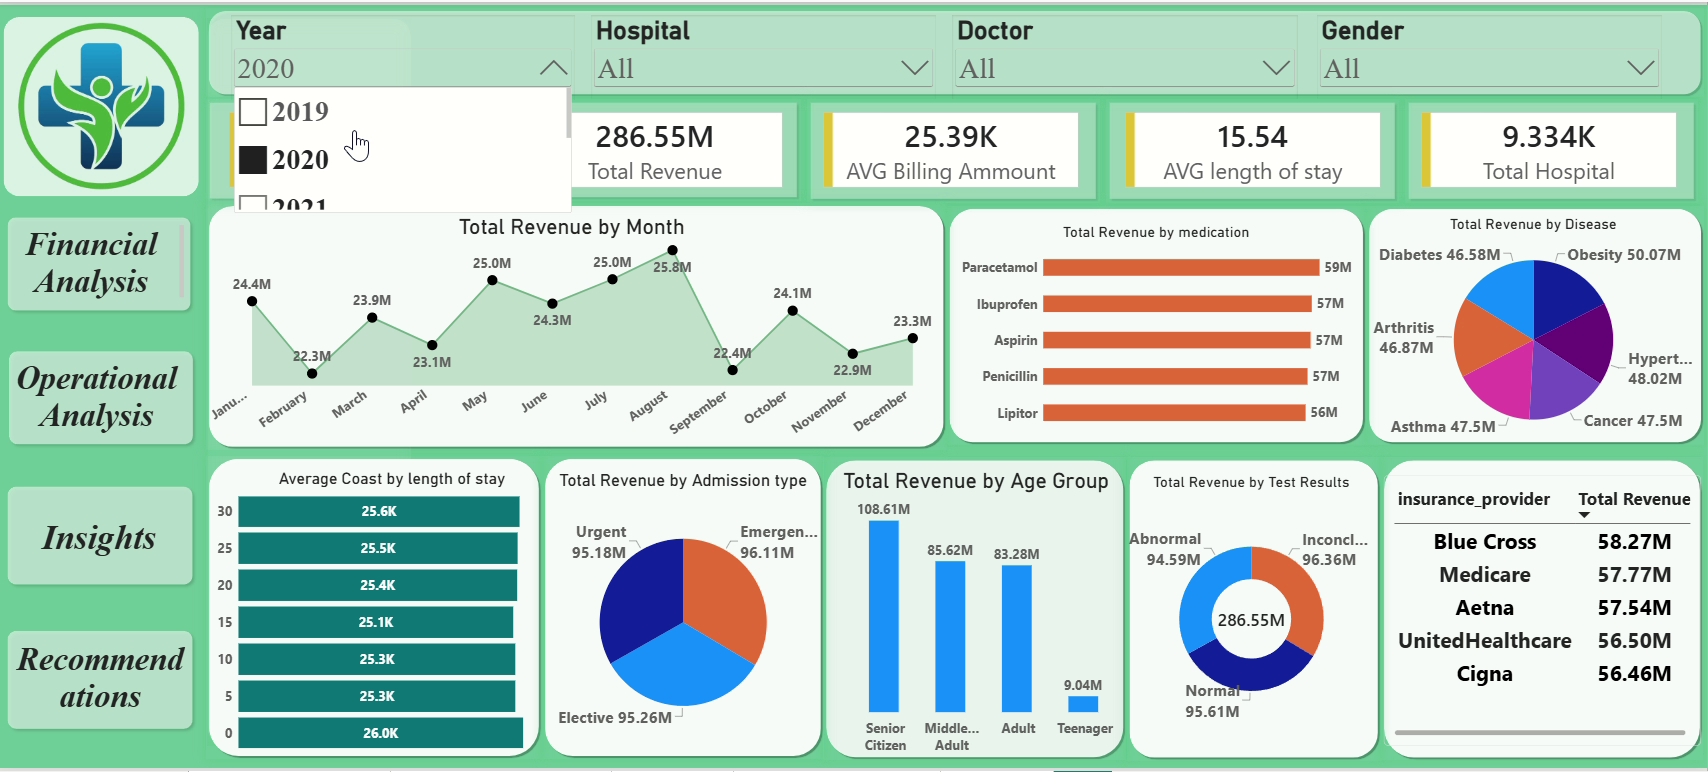

Layout of this report page (visuals, bound fields, positions):
{"tool":"powerbi","page":{"name":"Financial Analysis","canvas":[2800,1250],"ordinal":0},"visuals":[{"type":"shape","box":[341.2,21.9,333.9,1191.9],"z":0},{"type":"shape","box":[1351.5,740,497,496.8],"z":1000},{"type":"shape","box":[2264.6,740,527.7,497],"z":2000},{"type":"shape","box":[2302.3,153.3,480.1,170.6],"z":3000},{"type":"shape","box":[2240,329.1,554,392.4],"z":4000},{"type":"shape","box":[1552.6,329.1,687.3,392.4],"z":5000},{"type":"shape","box":[338.8,324.2,1213.8,404.6],"z":6000},{"type":"lineChart","fields":{"Category":["Date.Date.Variation.Date Hierarchy.Month"],"Y":["public healthcare_dataset.Total Revenue"]},"box":[324.2,329.1,1228.4,409.5],"z":7000},{"type":"shape","box":[339.9,153.6,480,169.9],"z":8000},{"type":"shape","box":[338.8,4.9,2454.5,146.2],"z":9000},{"type":"shape","box":[6.5,19.6,320.3,294.1],"z":10000},{"type":"shape","box":[5,337.9,318,171],"z":11000},{"type":"textbox","box":[8.4,360.2,296,120.1],"z":12000},{"type":"shape","box":[7.3,558.2,319.3,170.6],"z":13000},{"type":"textbox","box":[0,580.1,319.3,141.4],"z":14000},{"type":"image","box":[6.5,29.4,320.3,294.1],"z":15000},{"type":"slicer","fields":{"Values":["Date.Date.Variation.Date Hierarchy.Year"]},"box":[380.2,17.1,563,138.9],"z":16000},{"type":"slicer","fields":{"Values":["public healthcare_dataset.hospital"]},"box":[970.7,16.3,565.4,137.3],"z":17000},{"type":"slicer","fields":{"Values":["public healthcare_dataset.doctor"]},"box":[1562.2,16.3,565.4,137.3],"z":18000},{"type":"slicer","fields":{"Values":["public healthcare_dataset.gender"]},"box":[2160.3,16.3,565.4,137.3],"z":19000},{"type":"shape","box":[1324.7,153.3,480.1,170.6],"z":20000},{"type":"shape","box":[1813.5,153.3,480.1,170.6],"z":21000},{"type":"shape","box":[833,153.3,480.1,167.7],"z":22000},{"type":"cardVisual","fields":{"Data":["public healthcare_dataset.Total Patient"]},"box":[378.9,176.4,419,124],"z":23000},{"type":"cardVisual","fields":{"Data":["public healthcare_dataset.Total Revenue"]},"box":[864.8,176.4,419,124],"z":24000},{"type":"cardVisual","fields":{"Data":["public healthcare_dataset.Average Billing Ammount"]},"box":[1350.7,176.4,419,124],"z":25000},{"type":"cardVisual","fields":{"Data":["Avg(public healthcare_dataset.Average length of stay)"]},"box":[1845.3,176.4,419,124],"z":26000},{"type":"cardVisual","fields":{"Data":["Count(public healthcare_dataset.hospital)"]},"box":[2331.2,176.4,419,124],"z":27000},{"type":"barChart","fields":{"Category":["public healthcare_dataset.medication"],"Y":["public healthcare_dataset.Total Revenue"]},"box":[1560,343.7,672.7,380.2],"z":28000},{"type":"pieChart","title":"Total Revenue by Disease","fields":{"Category":["public healthcare_dataset.medical_condition"],"Y":["public healthcare_dataset.Total Revanue"]},"box":[2235.1,331.5,558.2,409.5],"z":29000},{"type":"shape","box":[338.8,738.5,550.9,497.2],"z":30000},{"type":"barChart","title":"Average Coast by length of stay","fields":{"Y":["Avg(public healthcare_dataset.billing_amount)"],"Category":["public healthcare_dataset.Average length of stay (Group)"]},"box":[340.7,745.5,605.9,502.6],"z":31000},{"type":"tableEx","title":"Revanue by Insurance provider","fields":{"Values":["public healthcare_dataset.insurance_provider","public healthcare_dataset.Total Revanue"]},"box":[2270.2,770.7,519.4,444],"z":32000},{"type":"shape","box":[889.7,738.5,462,497.2],"z":33000},{"type":"columnChart","fields":{"Category":["public healthcare_dataset.Age Group"],"Y":["public healthcare_dataset.Total Revenue"]},"box":[1334.7,745.5,530.5,499.8],"z":34000},{"type":"pieChart","title":"Total Revenue by Admission type","fields":{"Category":["public healthcare_dataset.admission_type"],"Y":["public healthcare_dataset.Total Revenue"]},"box":[890.6,748.8,462.7,497.4],"z":35000},{"type":"shape","box":[1847.6,741,416.8,497.2],"z":36000},{"type":"donutChart","title":"Total Revenue by Test Results","fields":{"Category":["public healthcare_dataset.test_results"],"Y":["public healthcare_dataset.Total Revenue"]},"box":[1842.9,753.9,418.8,480.3],"z":37000},{"type":"shape","box":[5.6,779.1,321.1,178.7],"z":38000},{"type":"shape","box":[5,1016,321.1,178.7],"z":39000},{"type":"textbox","box":[8,839.7,312.9,72.2],"z":40000},{"type":"textbox","box":[26.7,1040.3,278.1,155.1],"z":41000},{"type":"actionButton","box":[14,569.6,312,153.5],"z":42000},{"type":"actionButton","box":[11.2,793,312.7,153.6],"z":43000},{"type":"actionButton","box":[11.2,1030.4,312.7,153.6],"z":44000}]}

Visuals, with their boxes in screenshot pixels (x1, y1, x2, y2), scaled from the page's 2800x1250 canvas onto the 1708x772 screenshot:
shape: <box>208,14,412,750</box>
shape: <box>824,457,1128,764</box>
shape: <box>1381,457,1703,764</box>
shape: <box>1404,95,1697,200</box>
shape: <box>1366,203,1704,446</box>
shape: <box>947,203,1366,446</box>
shape: <box>207,200,947,450</box>
lineChart - Date.Date.Variation.Date Hierarchy.Month x public healthcare_dataset.Total Revenue: <box>198,203,947,456</box>
shape: <box>207,95,500,200</box>
shape: <box>207,3,1704,93</box>
shape: <box>4,12,199,194</box>
shape: <box>3,209,197,314</box>
textbox: <box>5,222,186,297</box>
shape: <box>4,345,199,450</box>
textbox: <box>0,358,195,446</box>
image: <box>4,18,199,200</box>
slicer - Date.Date.Variation.Date Hierarchy.Year: <box>232,11,575,96</box>
slicer - public healthcare_dataset.hospital: <box>592,10,937,95</box>
slicer - public healthcare_dataset.doctor: <box>953,10,1298,95</box>
slicer - public healthcare_dataset.gender: <box>1318,10,1663,95</box>
shape: <box>808,95,1101,200</box>
shape: <box>1106,95,1399,200</box>
shape: <box>508,95,801,198</box>
cardVisual - public healthcare_dataset.Total Patient: <box>231,109,487,186</box>
cardVisual - public healthcare_dataset.Total Revenue: <box>528,109,783,186</box>
cardVisual - public healthcare_dataset.Average Billing Ammount: <box>824,109,1080,186</box>
cardVisual - Avg(public healthcare_dataset.Average length of stay): <box>1126,109,1381,186</box>
cardVisual - Count(public healthcare_dataset.hospital): <box>1422,109,1678,186</box>
barChart - public healthcare_dataset.medication x public healthcare_dataset.Total Revenue: <box>952,212,1362,447</box>
"Total Revenue by Disease" pieChart: <box>1363,205,1704,458</box>
shape: <box>207,456,543,763</box>
"Average Coast by length of stay" barChart: <box>208,460,577,771</box>
"Revanue by Insurance provider" tableEx: <box>1385,476,1702,750</box>
shape: <box>543,456,825,763</box>
columnChart - public healthcare_dataset.Age Group x public healthcare_dataset.Total Revenue: <box>814,460,1138,769</box>
"Total Revenue by Admission type" pieChart: <box>543,462,826,770</box>
shape: <box>1127,458,1381,765</box>
"Total Revenue by Test Results" donutChart: <box>1124,466,1380,762</box>
shape: <box>3,481,199,592</box>
shape: <box>3,627,199,738</box>
textbox: <box>5,519,196,563</box>
textbox: <box>16,642,186,738</box>
actionButton: <box>9,352,199,447</box>
actionButton: <box>7,490,198,585</box>
actionButton: <box>7,636,198,731</box>
